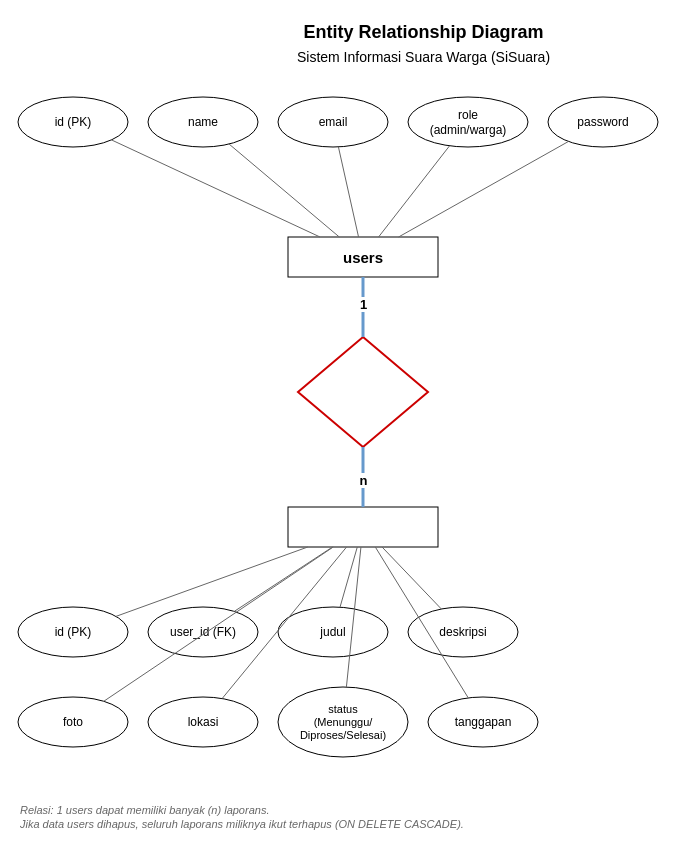
The diagram is 675 pixels wide and 854 high, and some of its shapes have lost their labels. The centre of each missing label's shape, as x and y in pixels:
laporans: [362,526]
melakukan: [362,392]
